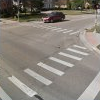crosswalk: (0, 44, 89, 100), (33, 25, 79, 36)
